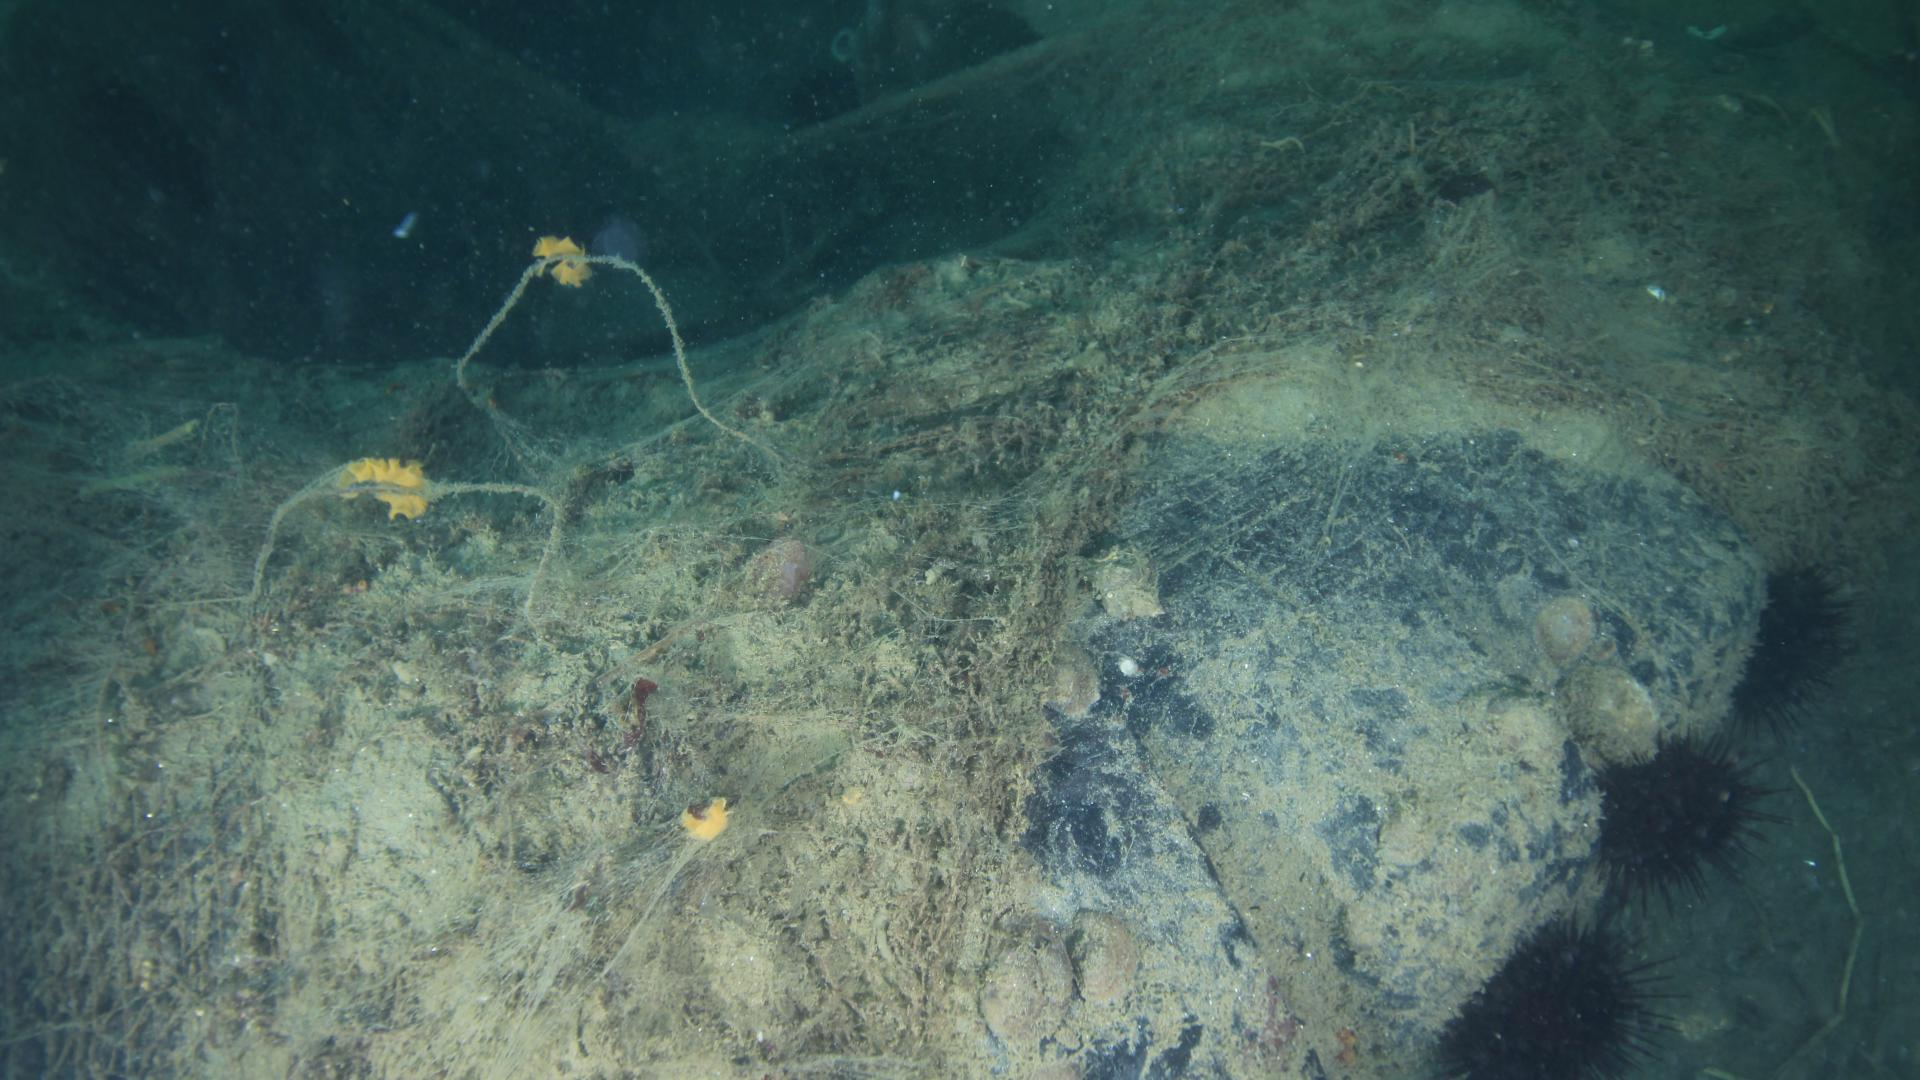tire: (3, 0, 1869, 1080)
